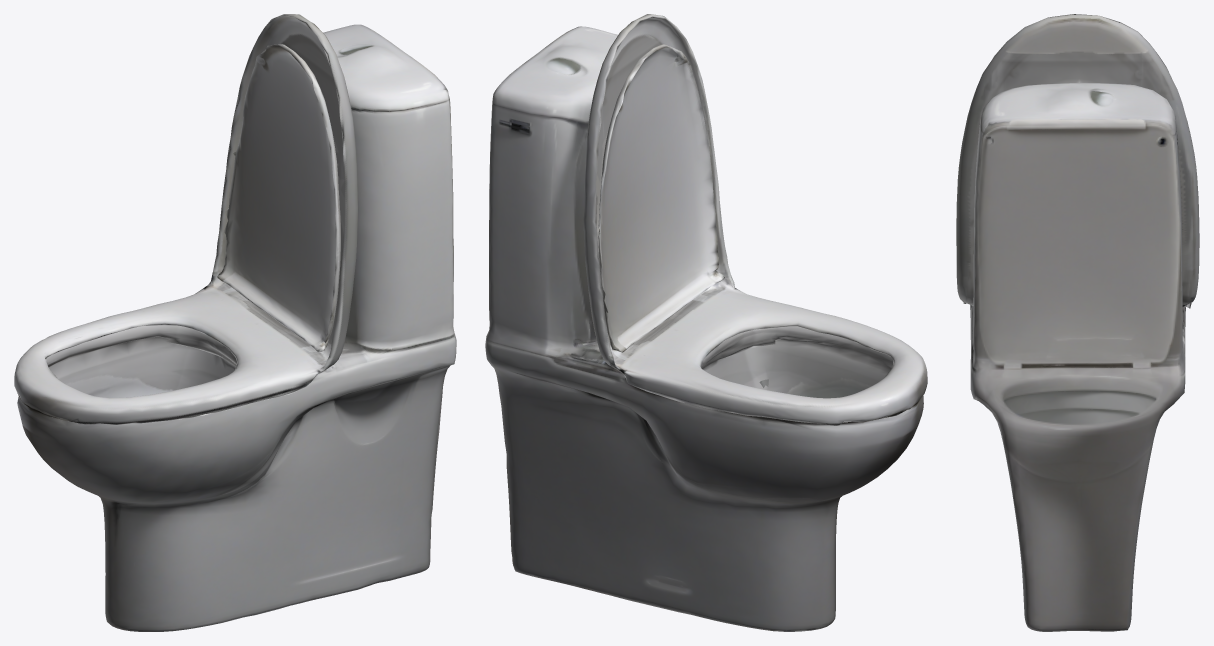
The model's file is Meshy_AI_toilet_0518215434_texture.fbx.
The picture shows the model from 3 angles, left to right: view 1: azimuth 30°, elevation 25°; view 2: azimuth 150°, elevation 25°; view 3: azimuth 270°, elevation 25°; orthographic projection. The views are drawn at different scales.
Visible parts, largest first — view 1: Mesh1.0; view 2: Mesh1.0; view 3: Mesh1.0.
Boxes of the visible parts, bbox=[...] form: Mesh1.0: bbox=[14, 14, 456, 631]; Mesh1.0: bbox=[485, 14, 927, 631]; Mesh1.0: bbox=[956, 14, 1199, 631].
Bounding box in the file's own units: 144 × 200 × 77.48.
1 material, 1 textured.
